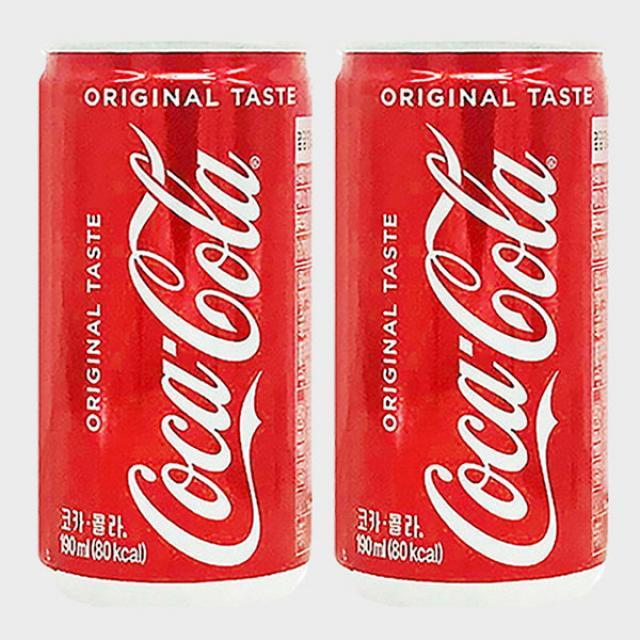coca-cola: (333, 47, 610, 587), (36, 50, 311, 588)
